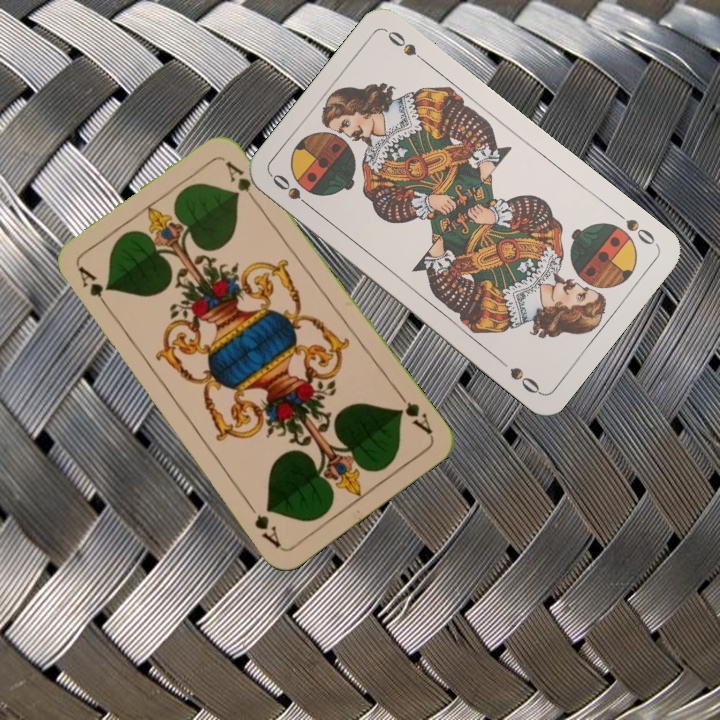GA: (393, 388, 436, 438), (73, 262, 113, 315)
SO: (268, 169, 318, 213), (610, 206, 660, 248)
